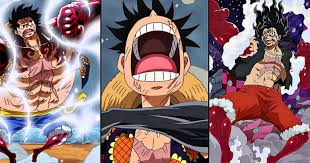Luffy: (122, 13, 191, 95), (255, 6, 288, 49), (8, 3, 43, 41)
